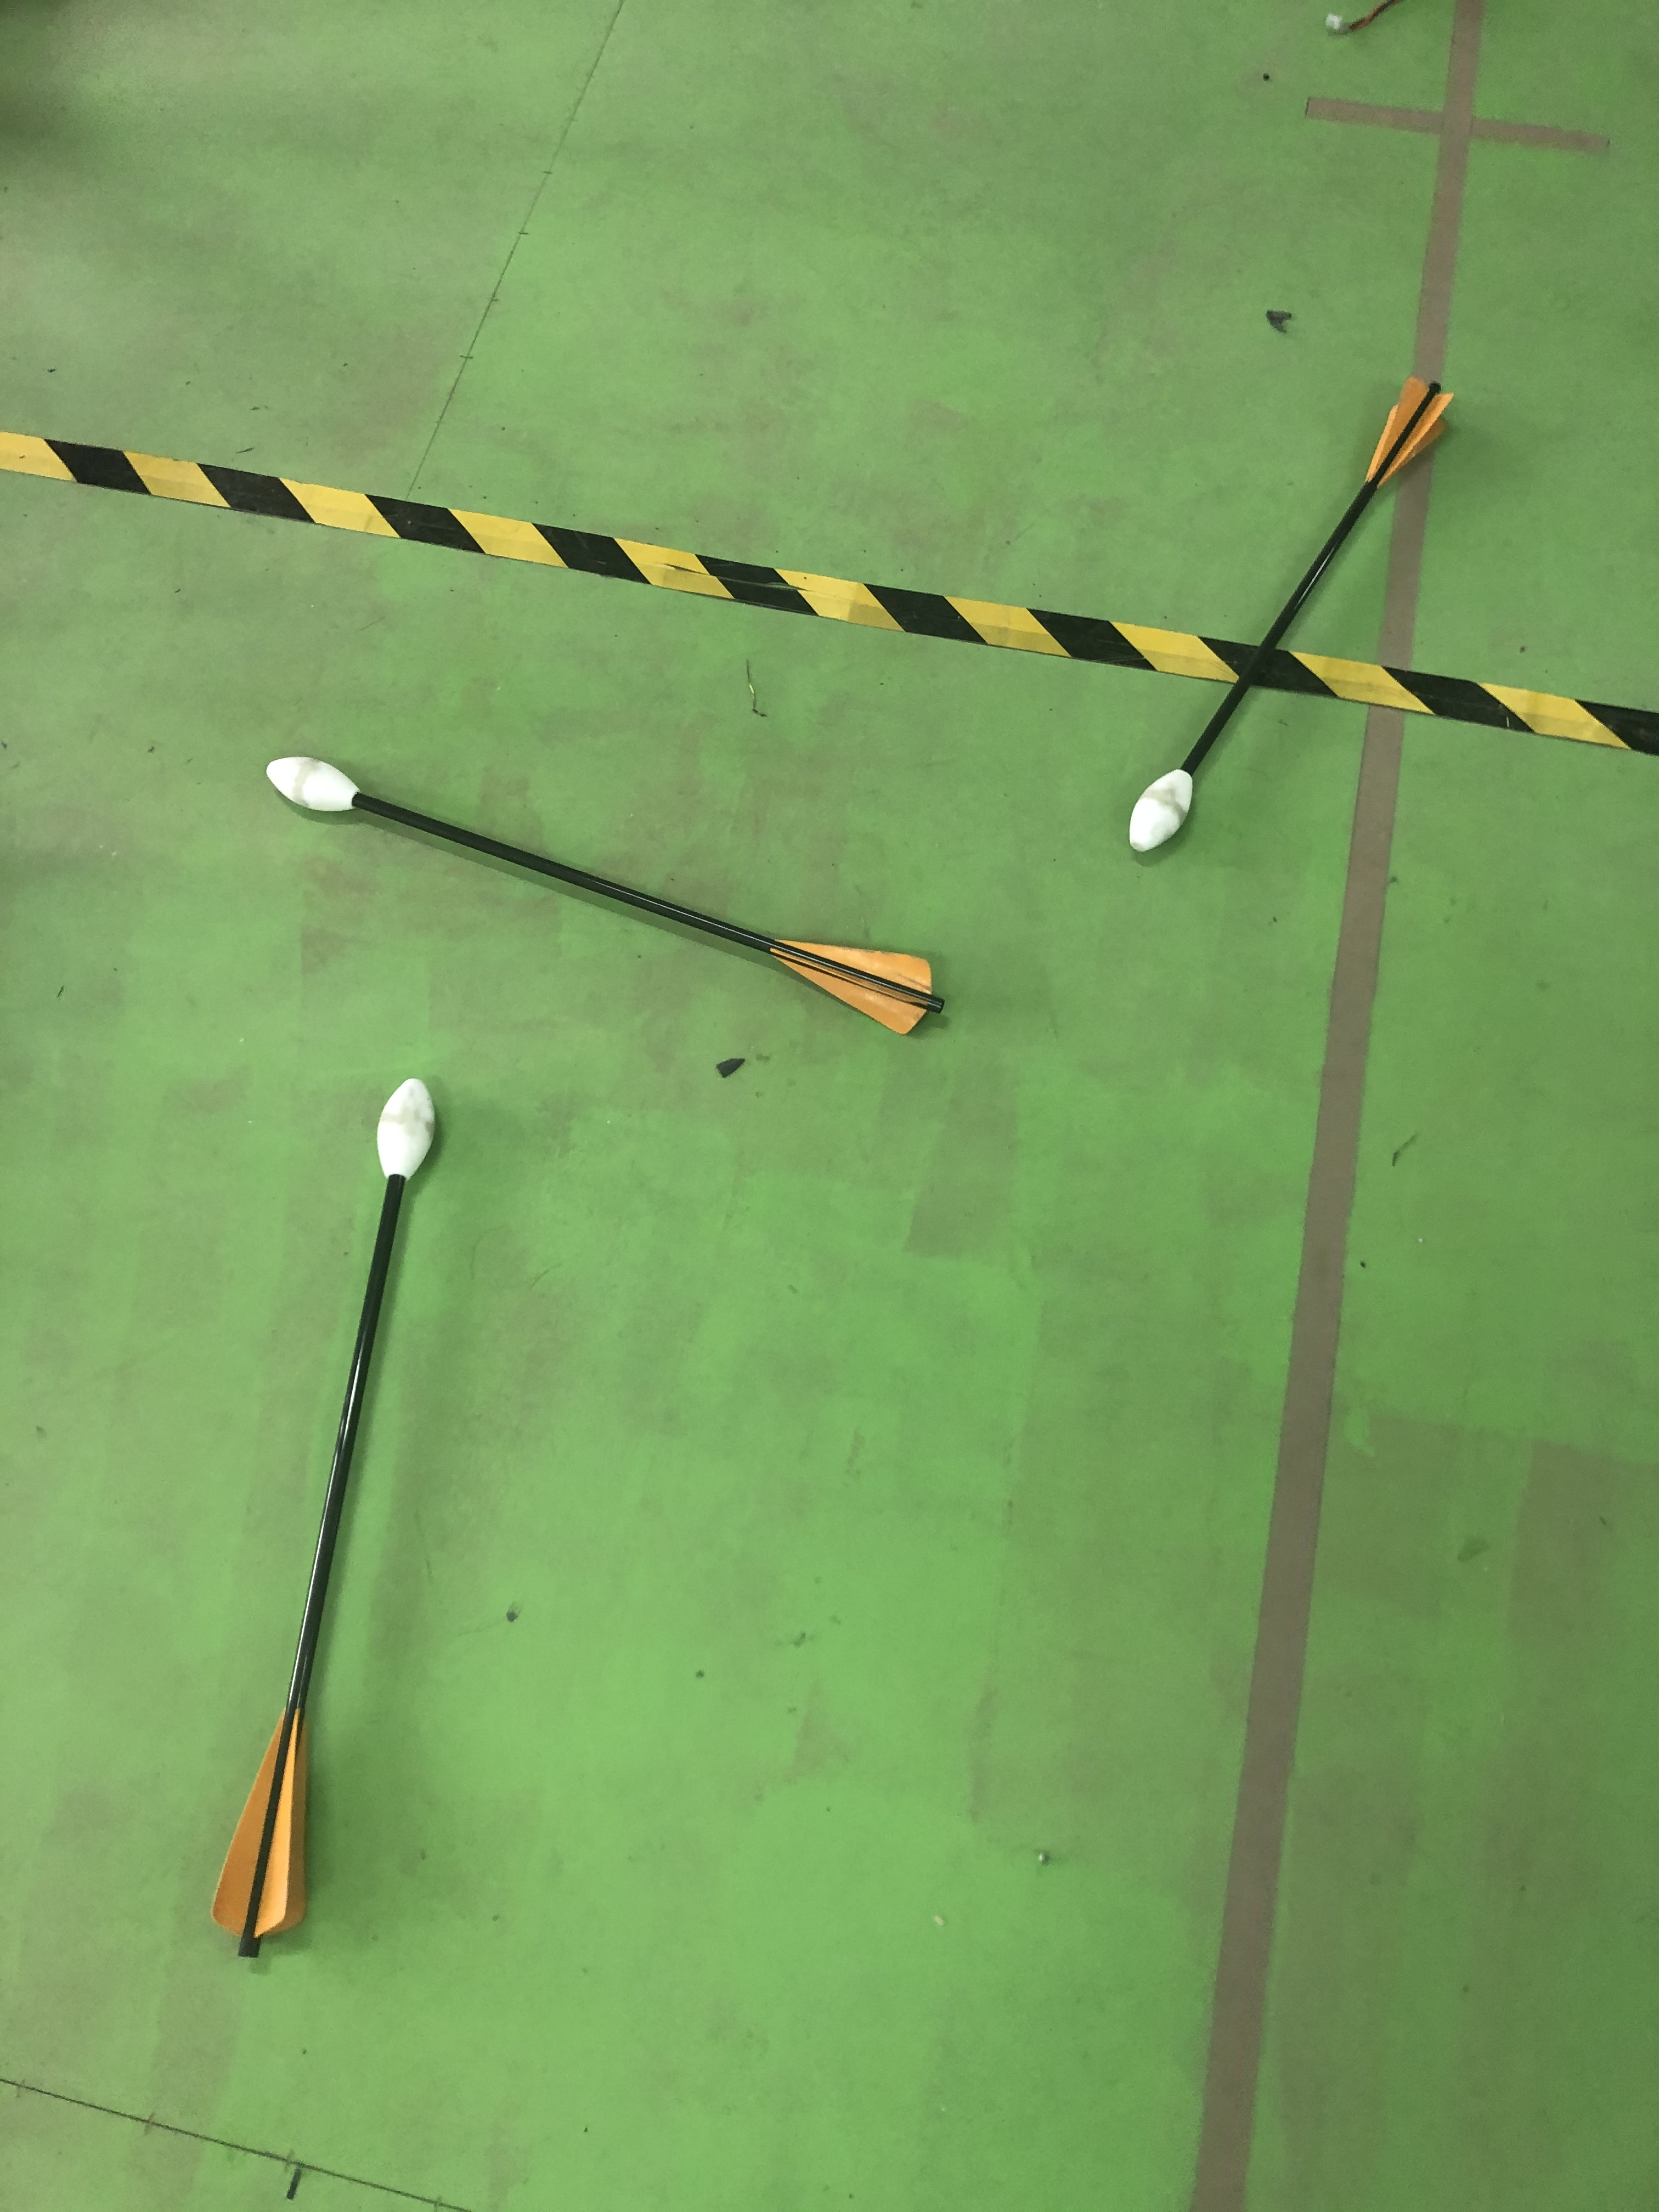arrow: (253, 740, 951, 1040), (206, 1069, 436, 1965), (1117, 376, 1467, 857)
arrowFront: (256, 752, 366, 824), (1131, 761, 1208, 855), (376, 1073, 436, 1191)
